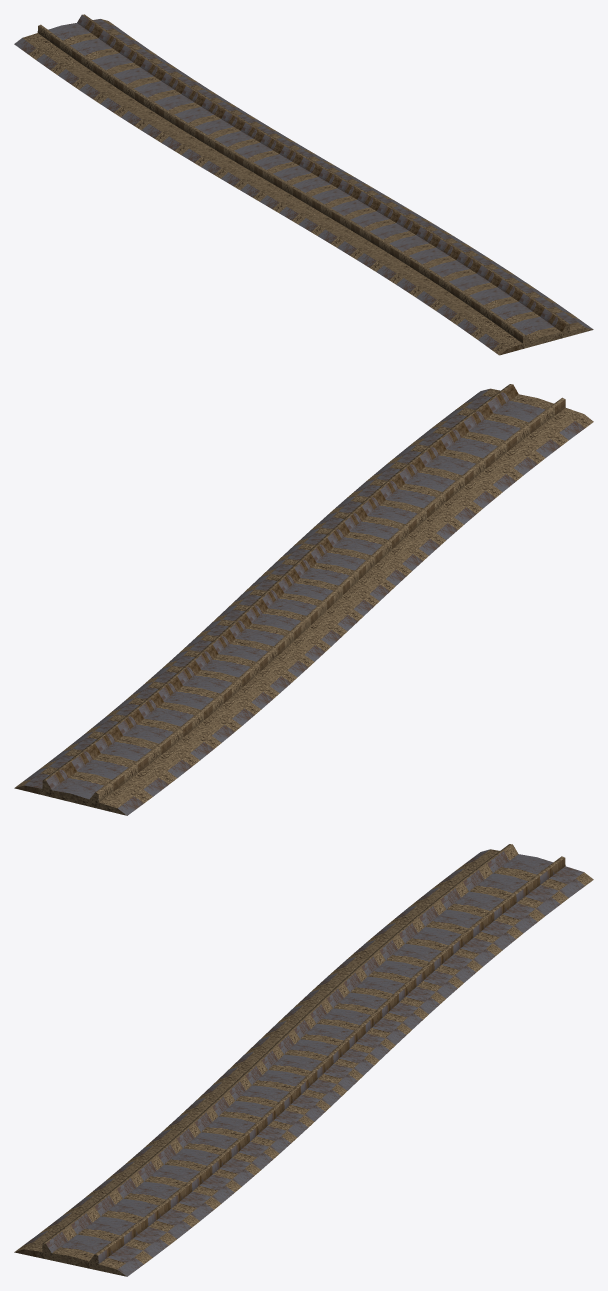
Rendered from Rail bend to left slim LOD2.fbx.
The picture shows the model from 3 angles, top to bottom: view 1: azimuth 30°, elevation 25°; view 2: azimuth 150°, elevation 25°; view 3: azimuth 330°, elevation 25°; orthographic projection. The views are drawn at different scales.
Visible parts, largest first — view 1: Track_1; view 2: Track_1; view 3: Track_1.
Boxes of the visible parts, left/top/right/bottom form: Track_1: left=14, top=14, right=593, bottom=355; Track_1: left=14, top=384, right=593, bottom=815; Track_1: left=14, top=844, right=593, bottom=1276.
Bounding box in the file's own units: 150 × 15.85 × 800.
1 material, 1 textured.
